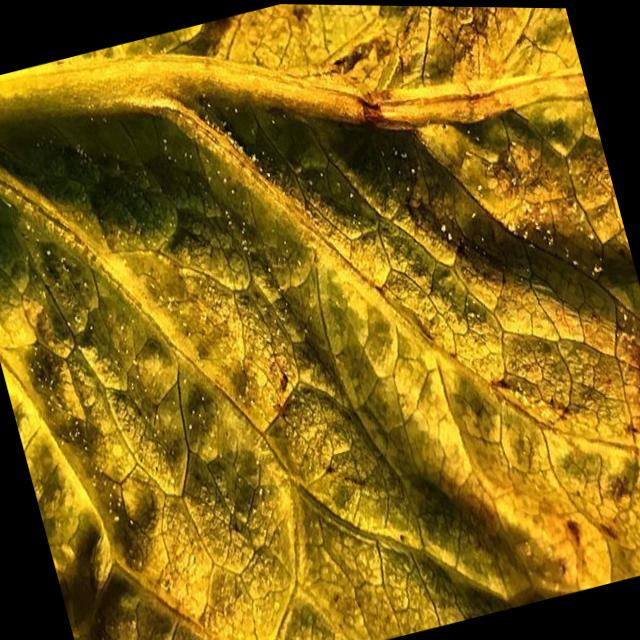Bad: (0, 96, 640, 605), (0, 220, 285, 640)
